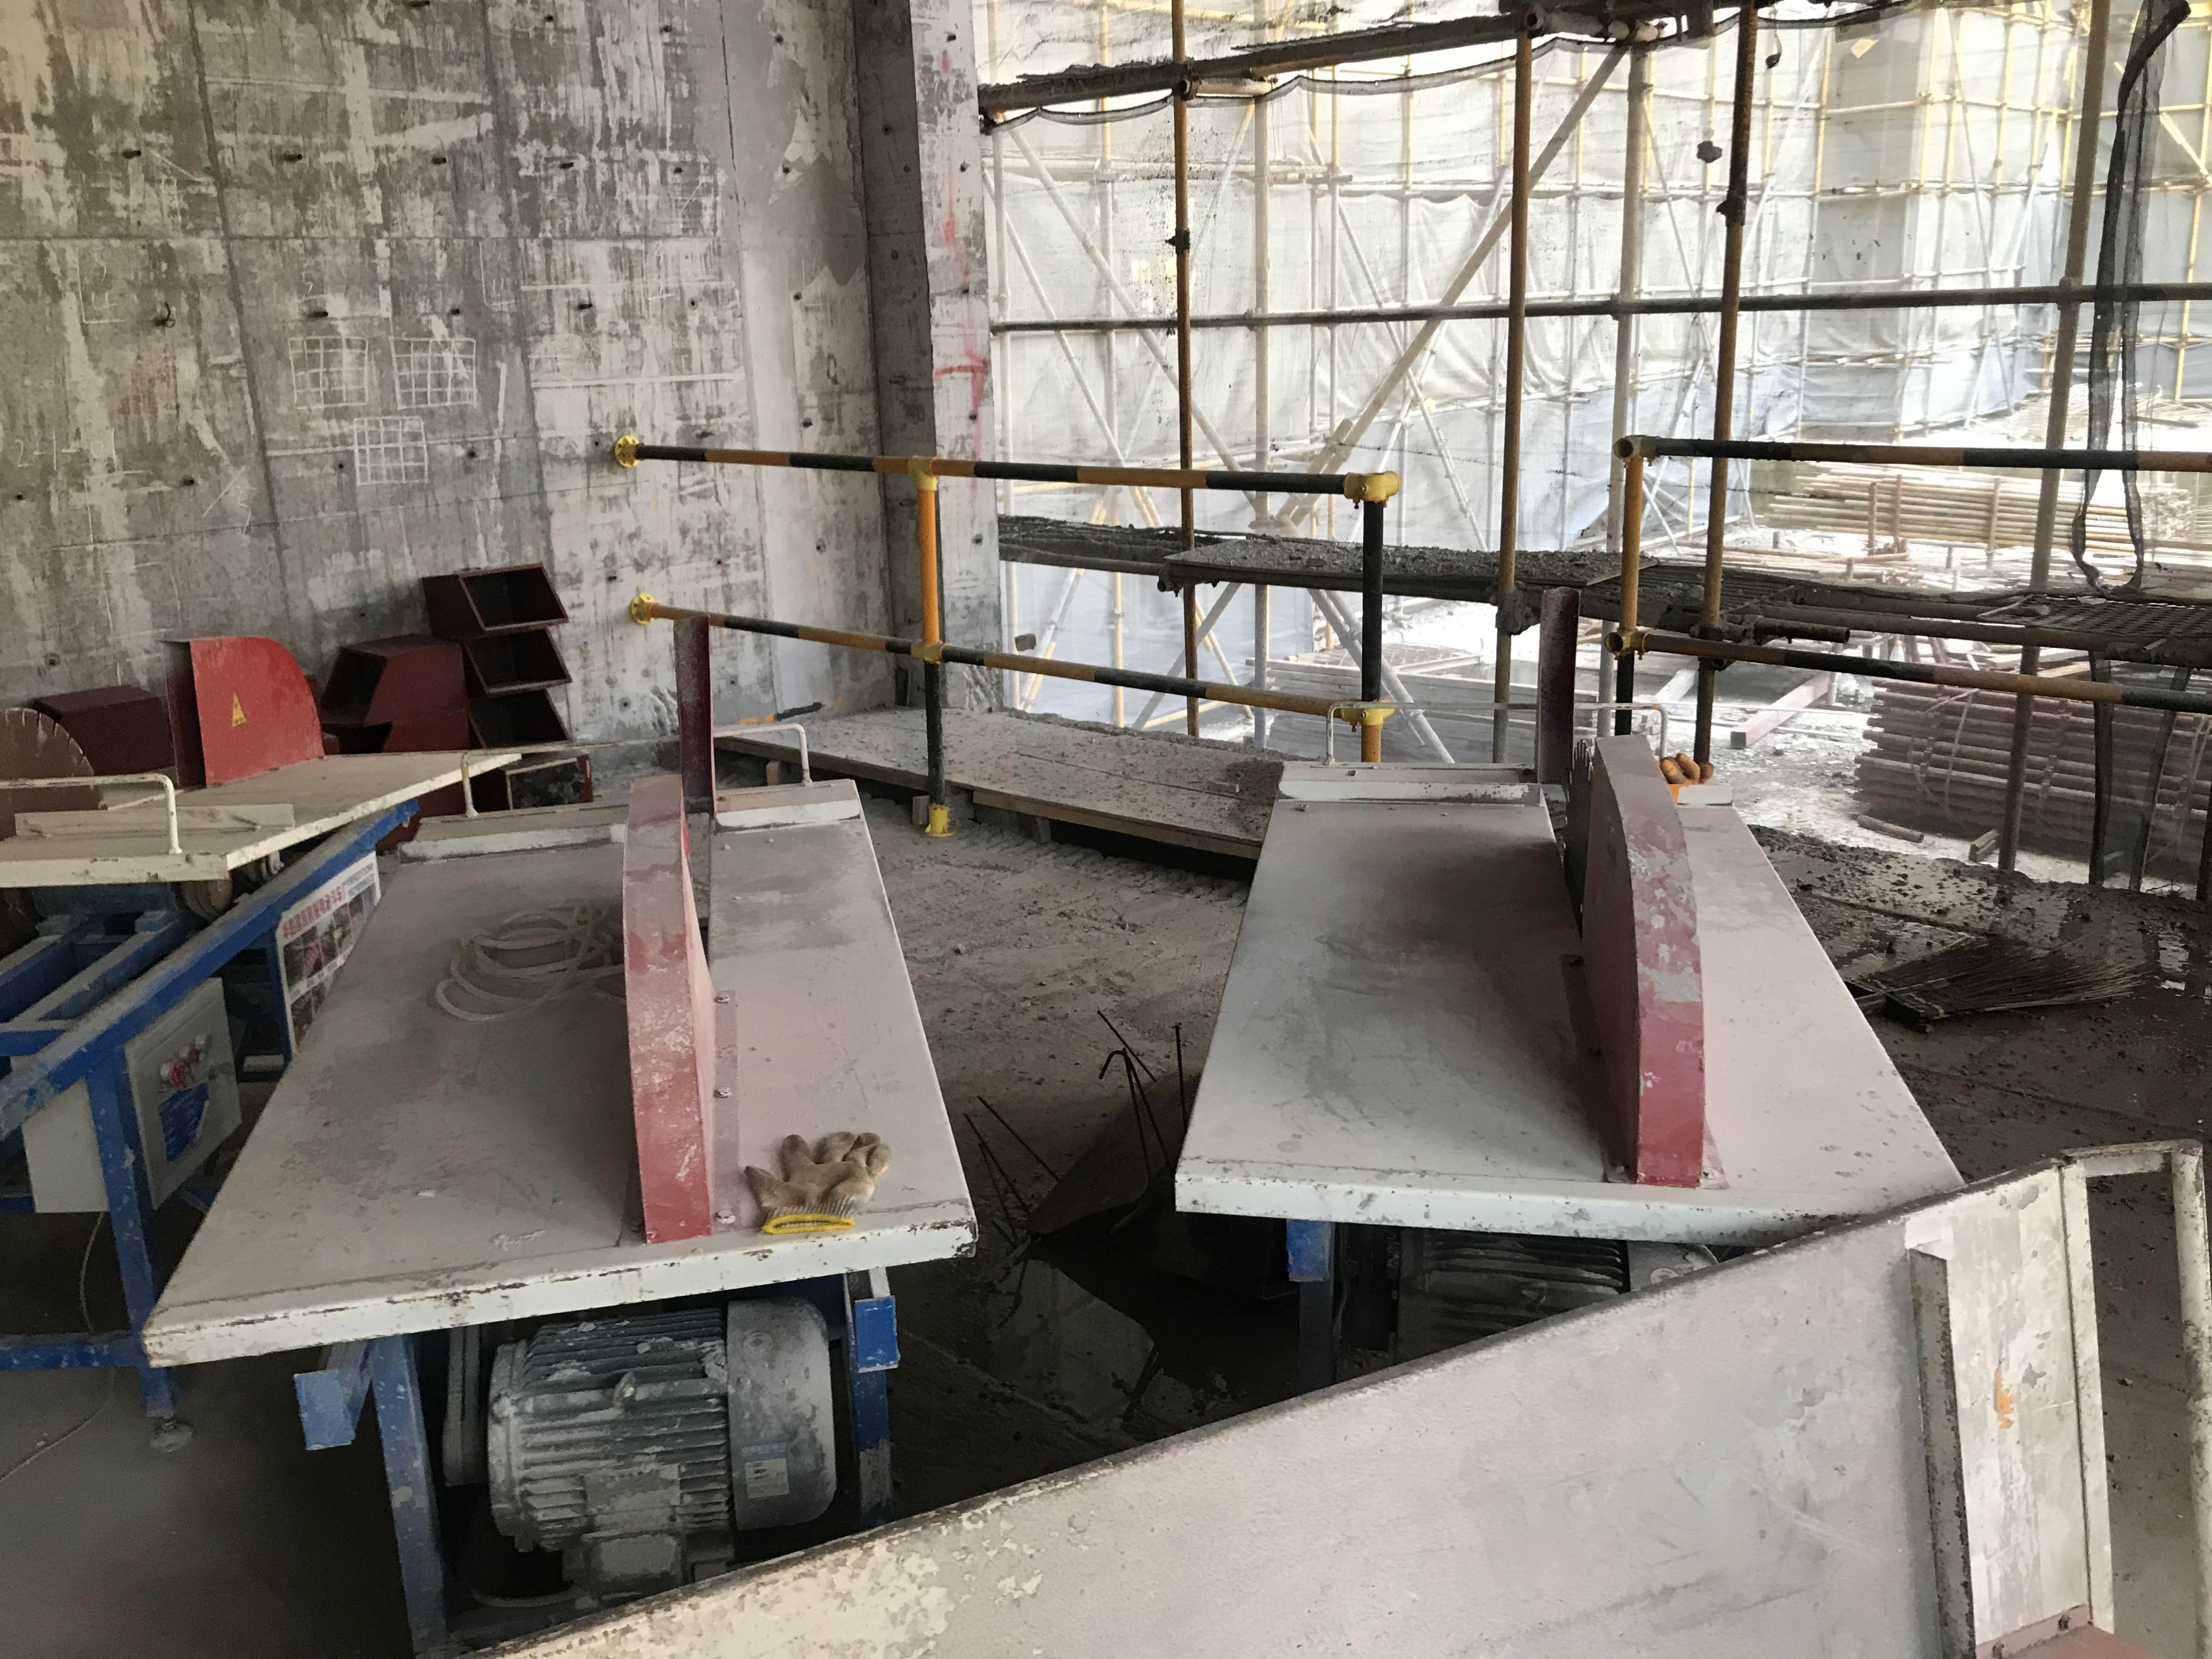cutter: (152, 647, 972, 1659), (1167, 676, 1975, 1234), (16, 615, 514, 1436)
